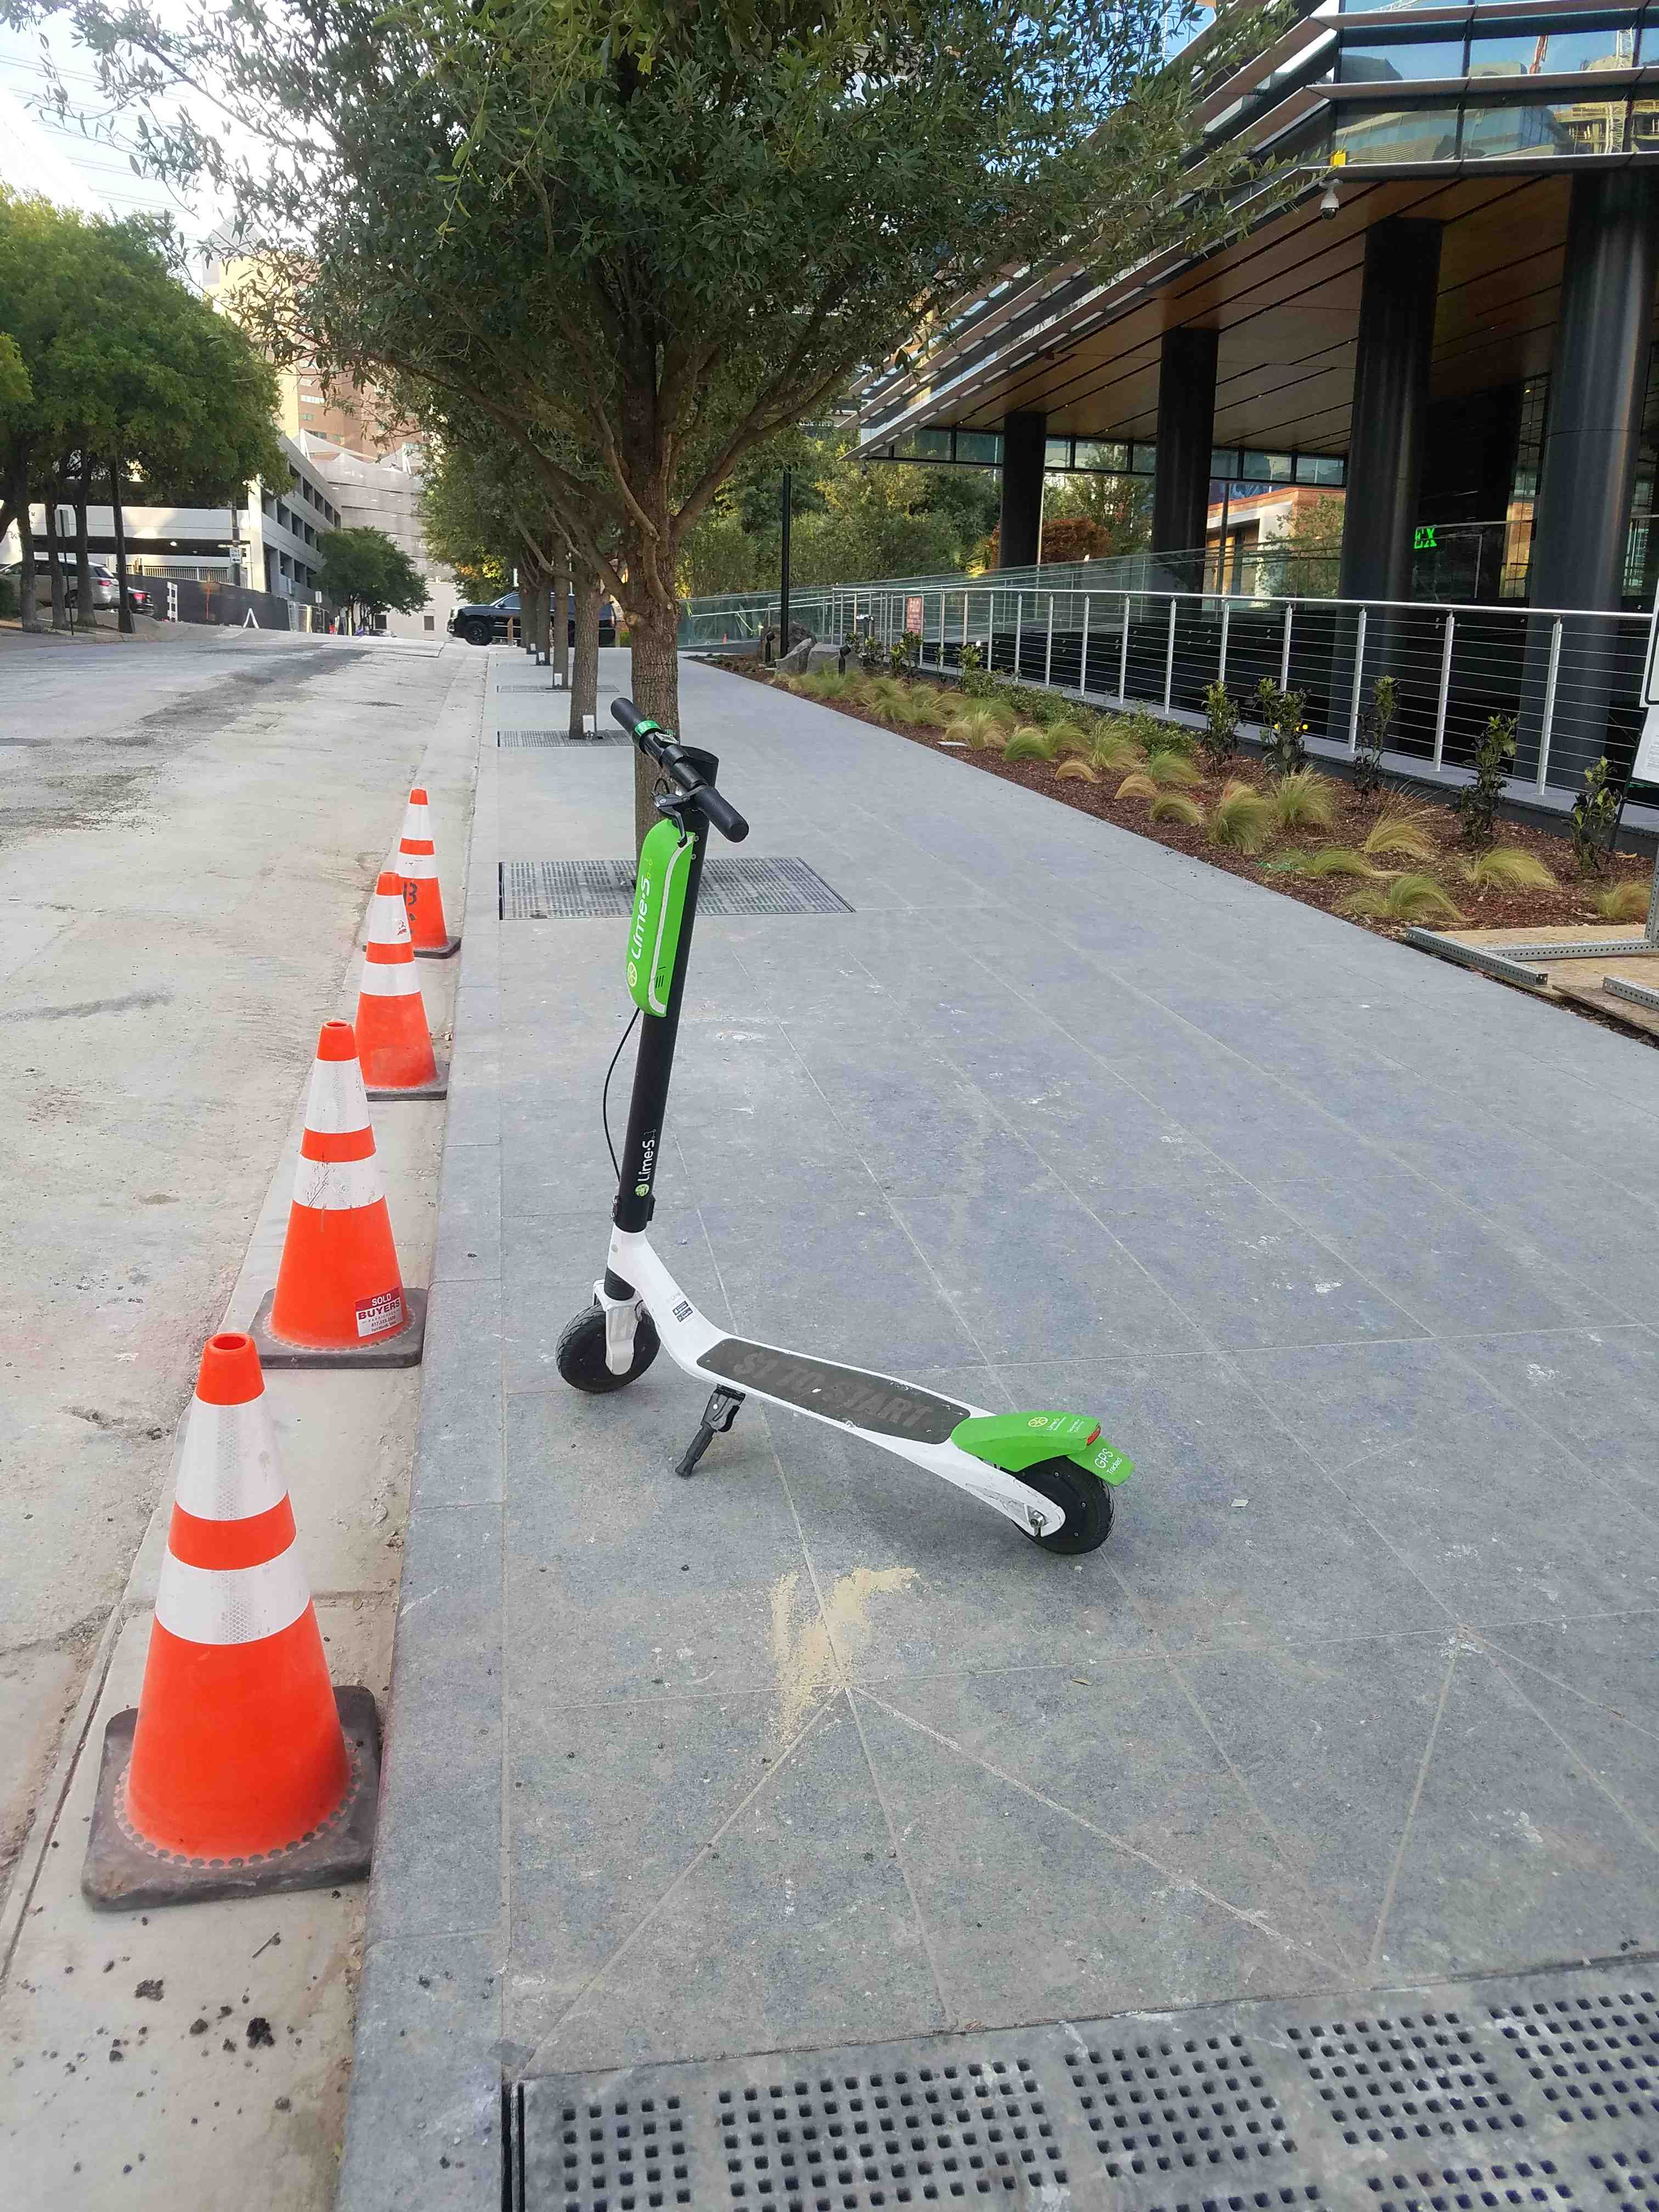scooter: (525, 693, 1134, 1573)
